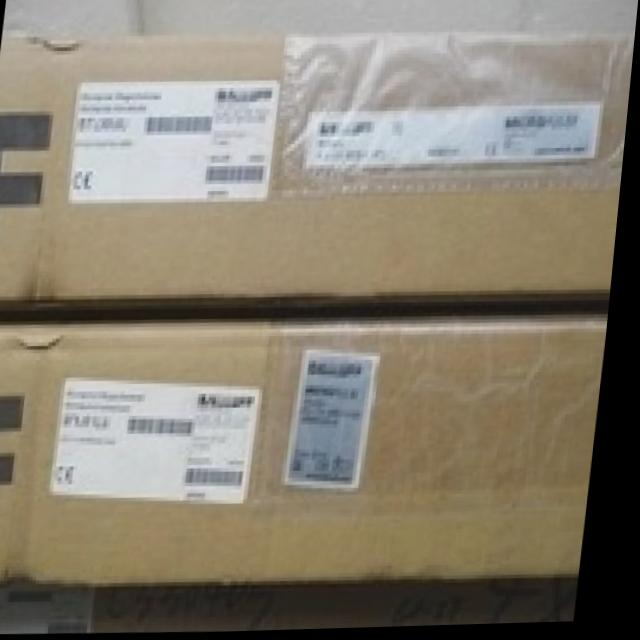box: (0, 26, 637, 314), (0, 307, 616, 588), (0, 585, 590, 634)
